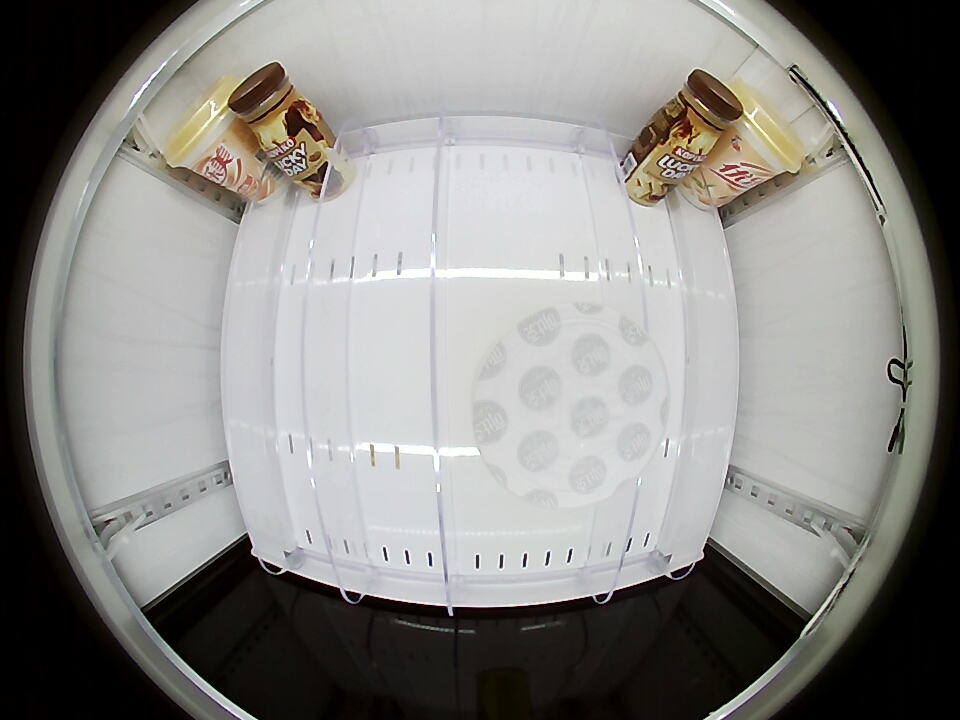kebike: (472, 299, 668, 507)
lujikafei: (662, 69, 744, 151), (229, 61, 309, 145)
youlemei: (164, 74, 240, 174), (728, 89, 804, 184)
